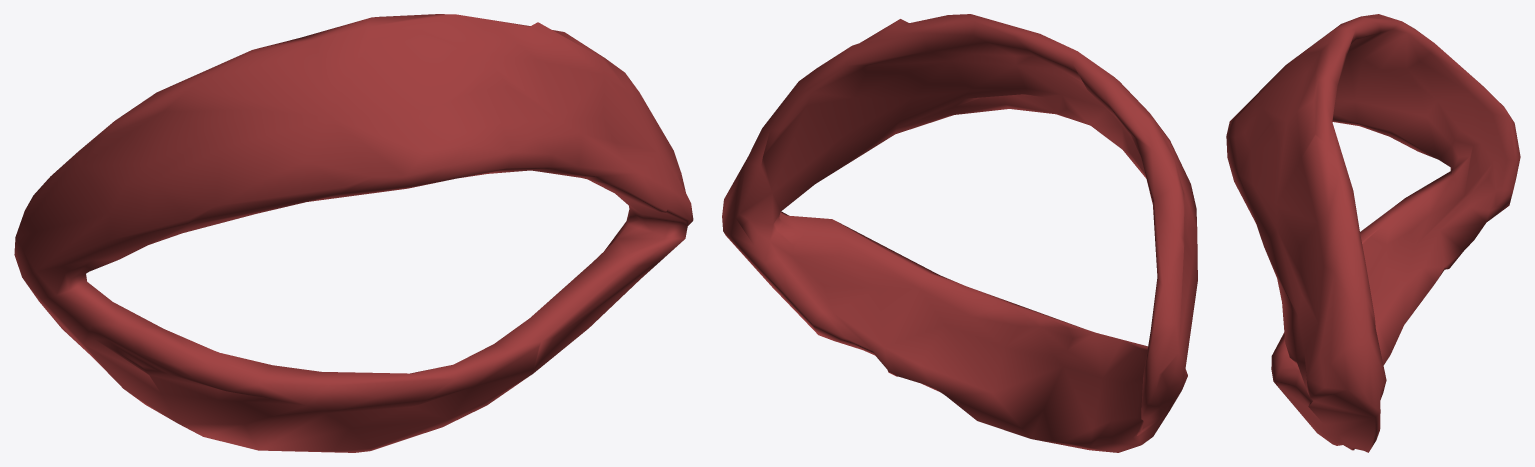
File: palpebral-part-of-orbicularis-oculi-r.glb
3 views of the same model, side by side, from view 1: azimuth 30°, elevation 25°; view 2: azimuth 150°, elevation 25°; view 3: azimuth 270°, elevation 25° (orthographic). The views are drawn at different scales.
Parts seen in each view (by area): view 1: Palpebral part of orbicularis oculi.r; view 2: Palpebral part of orbicularis oculi.r; view 3: Palpebral part of orbicularis oculi.r.
Boxes of the visible parts, <box> form: Palpebral part of orbicularis oculi.r: <box>14,14,693,452</box>; Palpebral part of orbicularis oculi.r: <box>722,14,1197,452</box>; Palpebral part of orbicularis oculi.r: <box>1226,14,1520,452</box>.
Bounding box in the file's own units: 0.0336 × 0.0242 × 0.0173.
